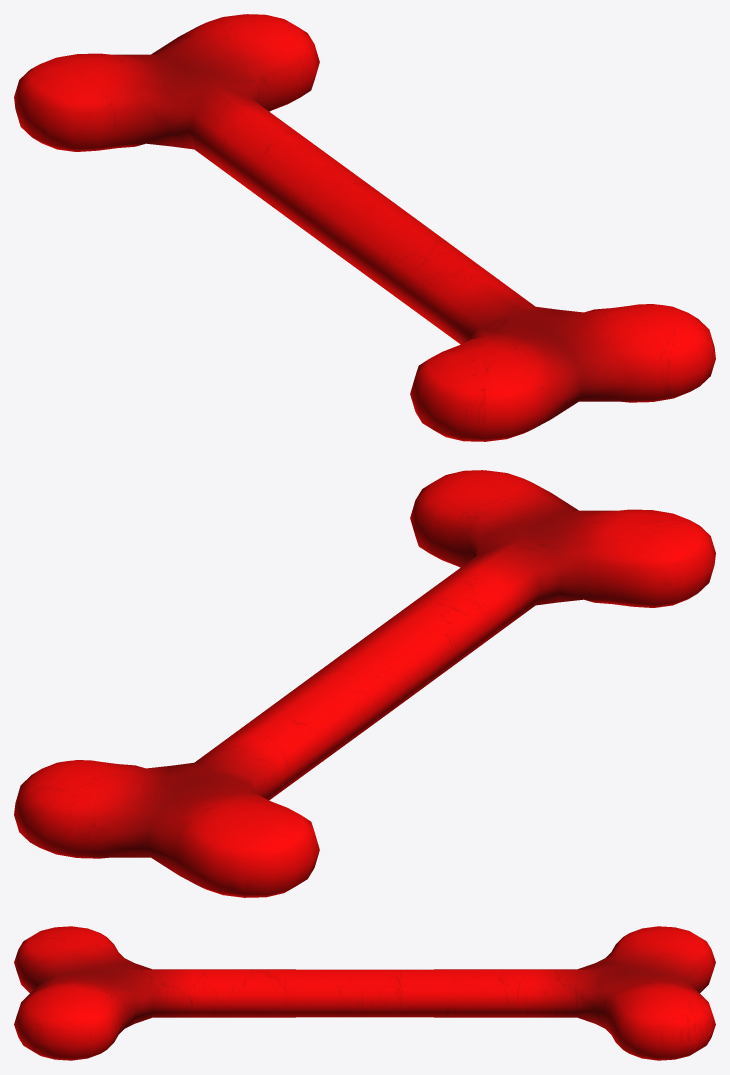
Rendered from M_BoneA.glb.
3 renders of one model, top to bottom at view 1: azimuth 30°, elevation 25°; view 2: azimuth 150°, elevation 25°; view 3: azimuth 270°, elevation 25°, orthographic. The views are drawn at different scales.
Parts seen in each view (by area): view 1: SM_Bone; view 2: SM_Bone; view 3: SM_Bone.
Boxes of the visible parts, x1,y1,x2,y2 form: SM_Bone: (14, 14, 715, 441); SM_Bone: (14, 470, 715, 897); SM_Bone: (14, 926, 715, 1060).
Size of the model in its own units: 0.2791 by 0.0705 by 0.7938.
Materials: 1 (1 with a texture image).
